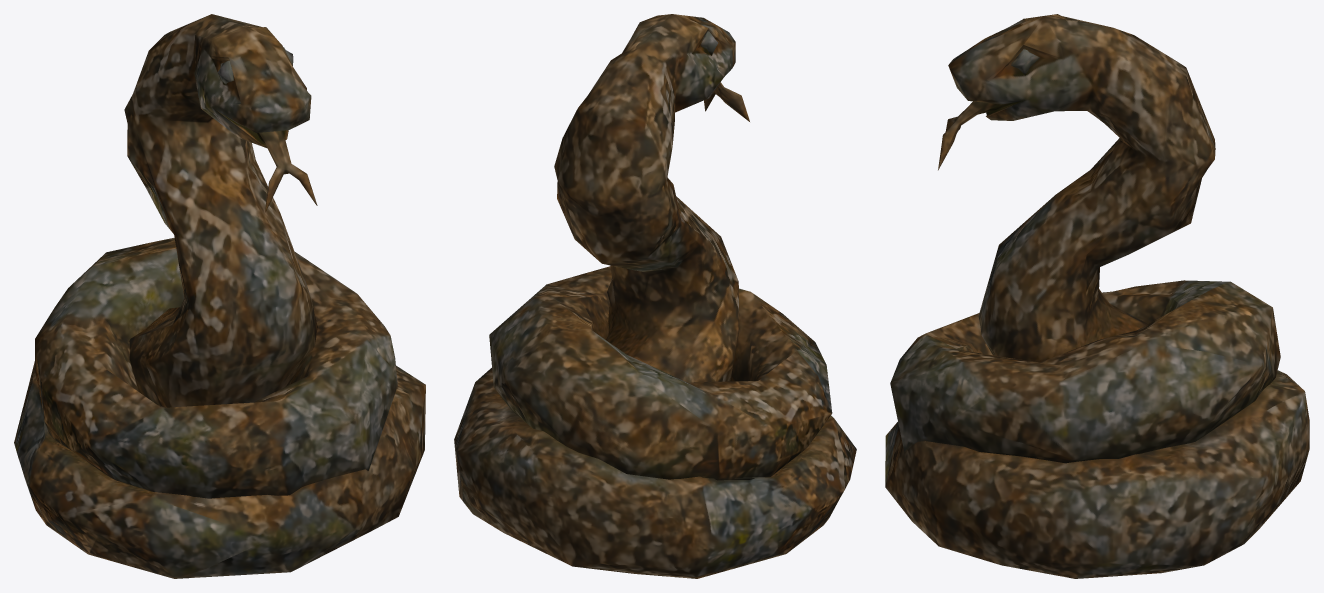
The model's file is Snake.glb.
3 renders of one model, left to right at view 1: azimuth 30°, elevation 25°; view 2: azimuth 150°, elevation 25°; view 3: azimuth 270°, elevation 25°, orthographic. The views are drawn at different scales.
Visible parts, largest first — view 1: Snake; view 2: Snake; view 3: Snake.
Boxes of the visible parts, left/top/right/bottom form: Snake: left=14, top=14, right=425, bottom=578; Snake: left=454, top=14, right=856, bottom=578; Snake: left=885, top=14, right=1309, bottom=578.
Size of the model in its own units: 0.7363 by 0.9551 by 0.7437.
Materials: 1 (1 with a texture image).
